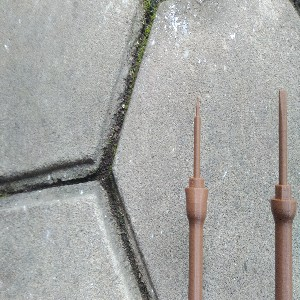obeng: (270, 88, 297, 300)
solder: (184, 95, 209, 300)
